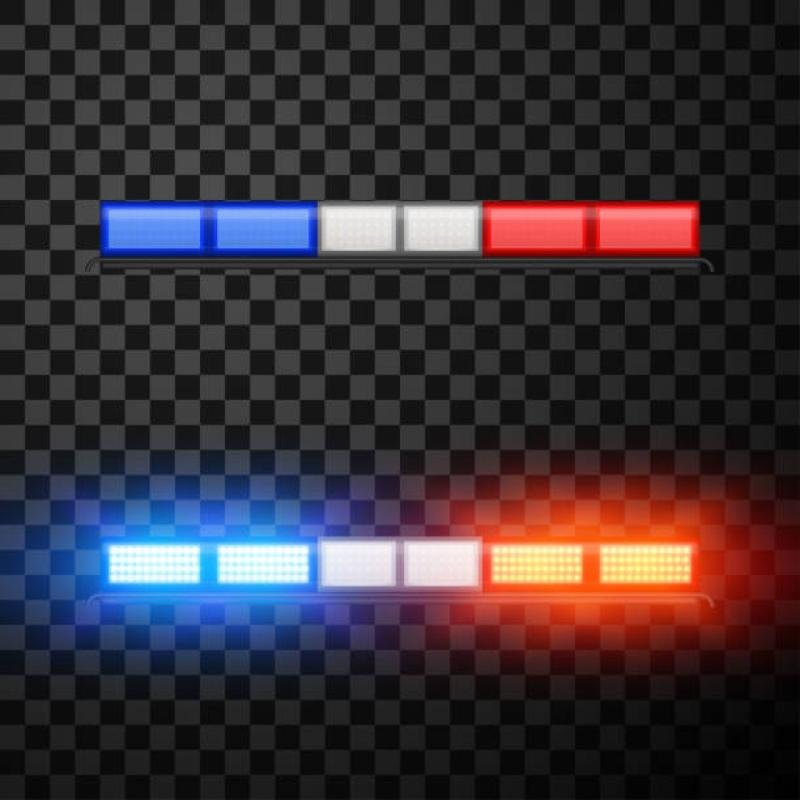AmbulanceSiren: (86, 469, 716, 657), (71, 163, 718, 321)
